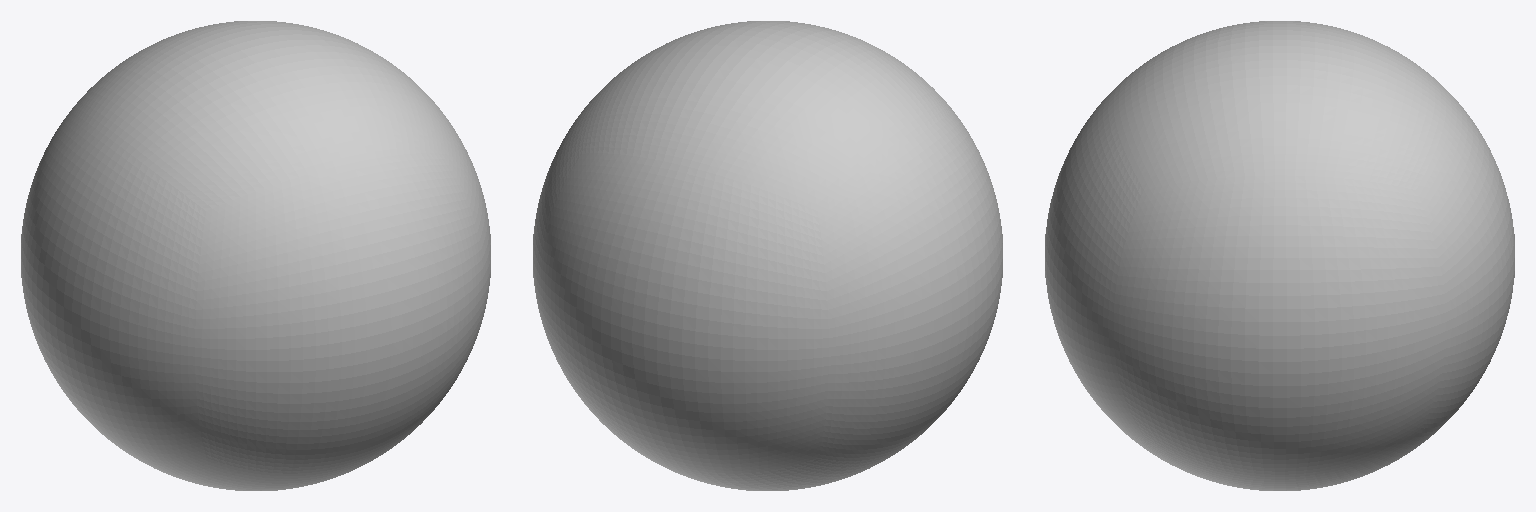
The model's file is render.obj.
The picture shows the model from 3 angles: view 1: azimuth 30°, elevation 25°; view 2: azimuth 150°, elevation 25°; view 3: azimuth 270°, elevation 25°; orthographic projection.
Visible parts, largest first — view 1: Atmosphere; view 2: Atmosphere; view 3: Atmosphere.
Boxes of the visible parts, <box> form: Atmosphere: <box>21,21,490,490</box>; Atmosphere: <box>533,21,1002,490</box>; Atmosphere: <box>1045,21,1514,490</box>.
Bounding box in the file's own units: 2422 × 2422 × 2422.